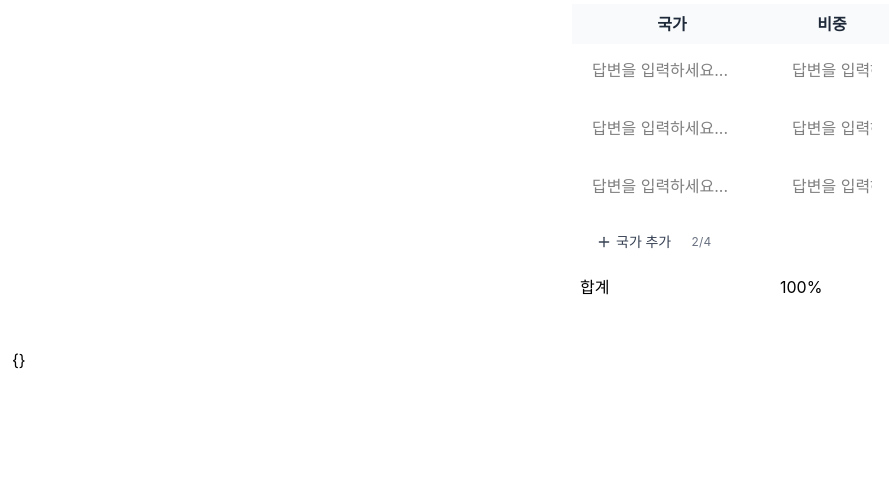
행 차례로 열기 — 응답 화면 › 묶음 행을 다 열면 + 가 비활성이 된다
Click the button "국가 추가".
click(634, 242)  # box [584,226,683,258]
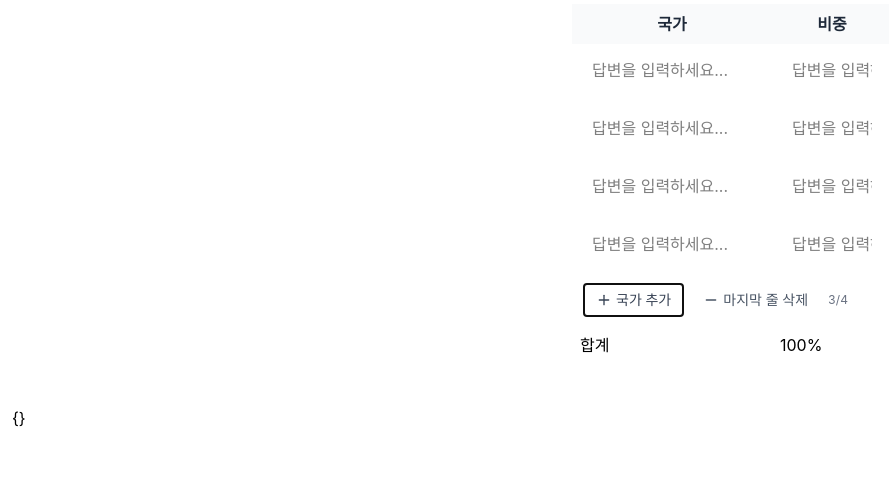
Click the button "국가 추가".
click(634, 300)  # box [584,284,683,316]
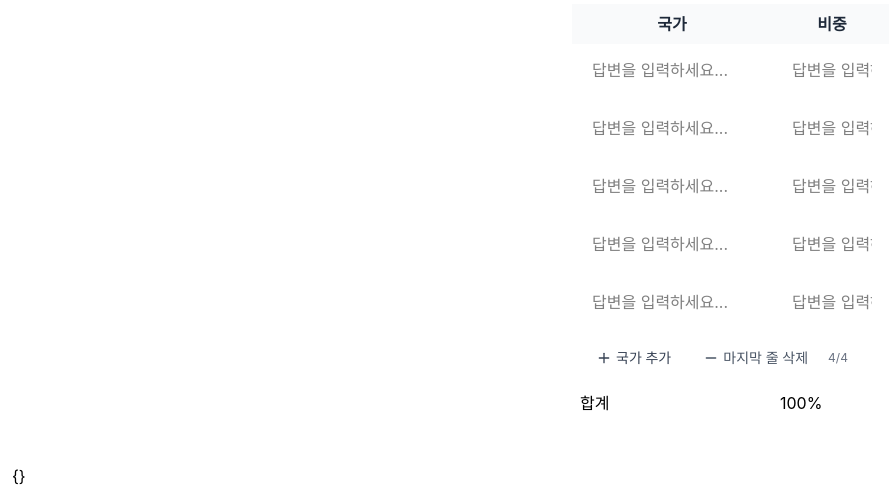
Expected: the button "국가 추가" is disabled, [584,342,683,374]
